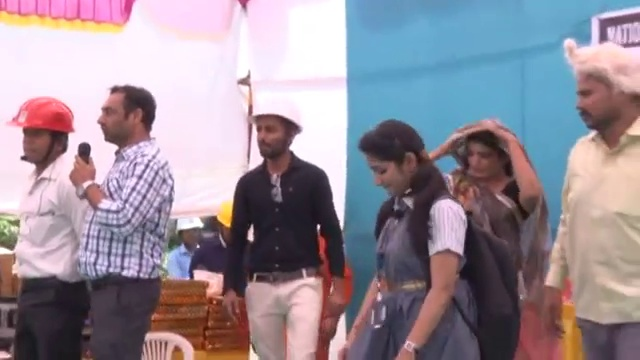helmet: (4, 93, 75, 134), (249, 94, 303, 134), (193, 269, 224, 300), (173, 212, 206, 234), (215, 200, 235, 229)
helmet_off: (559, 38, 639, 147), (356, 116, 431, 212), (450, 119, 524, 188), (90, 87, 158, 153)
helmet_on: (4, 94, 75, 168), (246, 94, 303, 168), (174, 215, 206, 249), (215, 201, 235, 248)
person: (205, 82, 350, 360), (64, 75, 171, 360), (357, 112, 473, 360), (438, 112, 553, 356), (554, 38, 640, 352), (3, 91, 98, 360), (188, 200, 246, 300), (164, 212, 202, 286)
